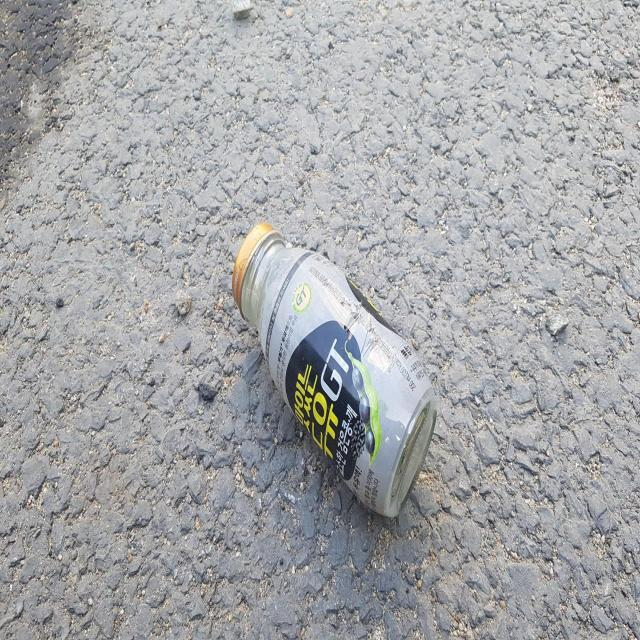glass: (232, 222, 437, 516)
